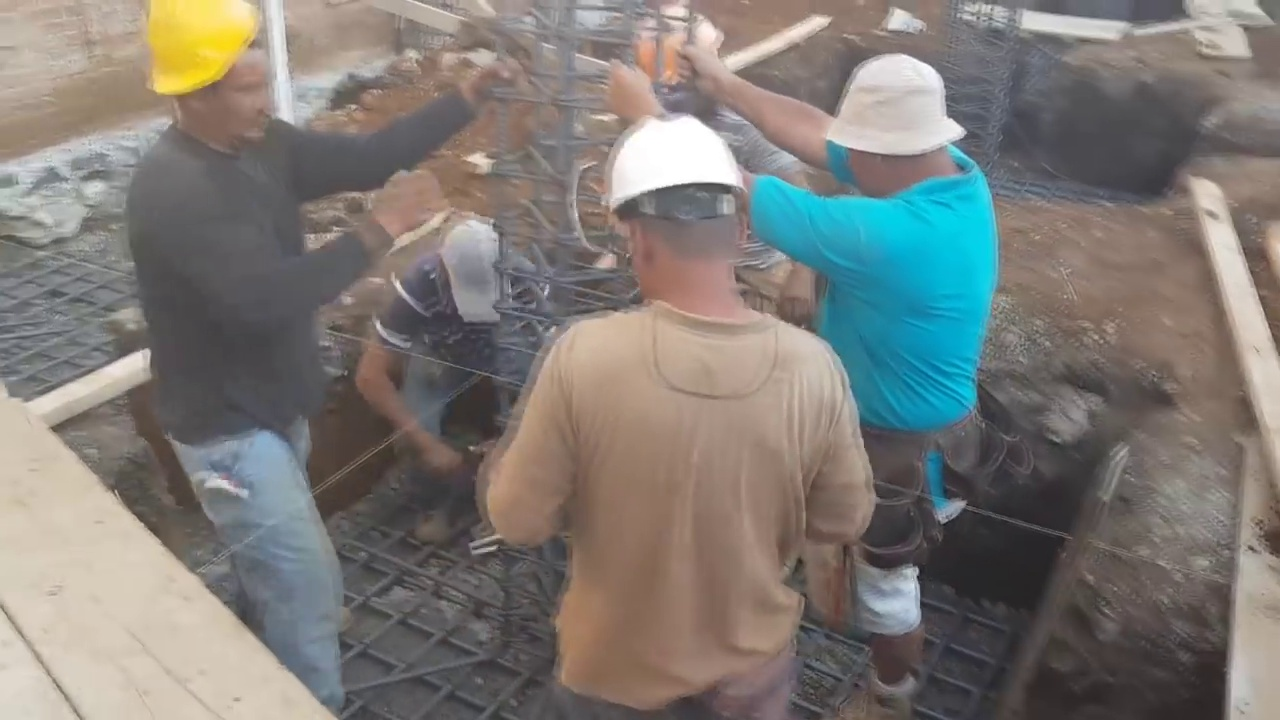helmet: (605, 110, 751, 225), (137, 5, 256, 101)
helmet-off: (830, 55, 969, 197), (436, 220, 511, 328)
helmet-on: (602, 97, 763, 338), (135, 10, 282, 153)
person: (500, 87, 923, 720), (114, 0, 429, 714), (689, 55, 1019, 707), (355, 194, 548, 552)
